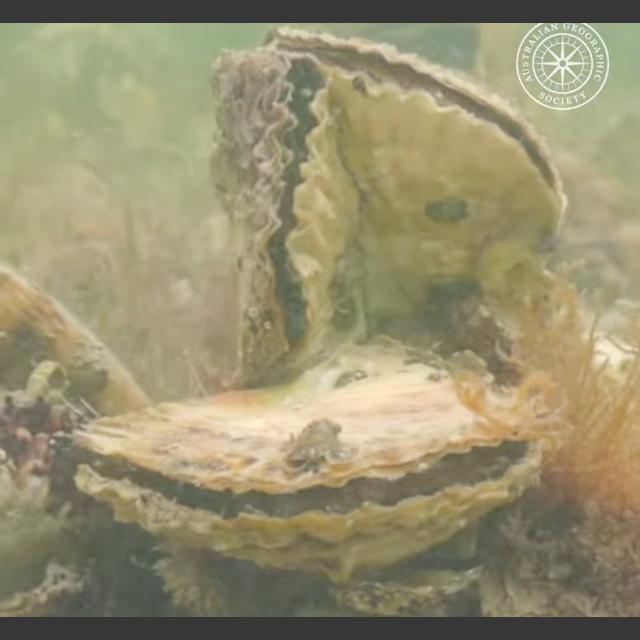Oyster-Closed: (0, 264, 156, 435)
Oyster-Open: (69, 336, 544, 586), (262, 27, 568, 349), (207, 47, 361, 393)
